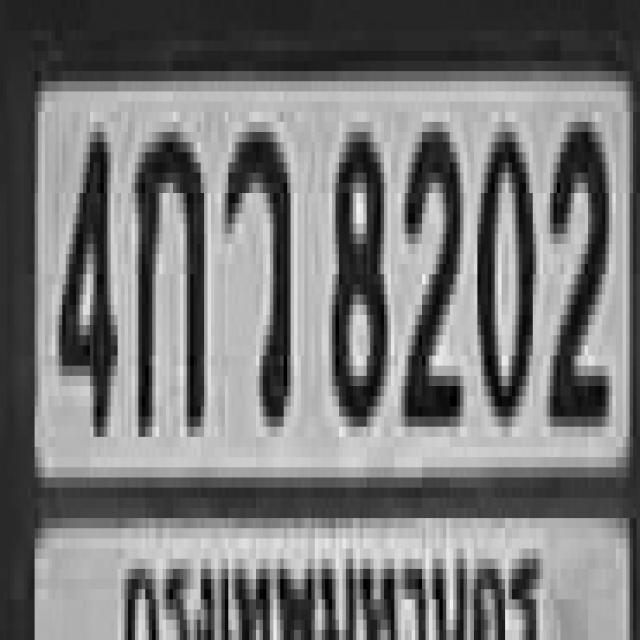0: (474, 122, 529, 406)
10GorGai: (132, 122, 200, 427)
2: (546, 111, 606, 416), (399, 111, 458, 416)
4: (56, 122, 114, 427)
46WorWaen: (222, 122, 287, 416)
8: (329, 122, 384, 416)
